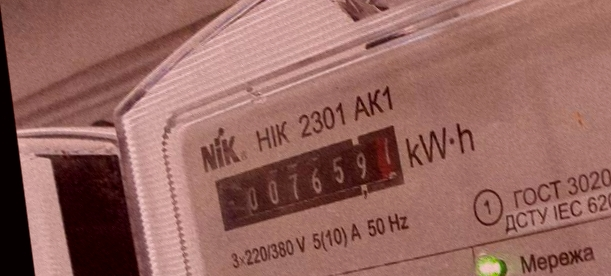0: (244, 180, 260, 210), (264, 176, 281, 204)
1: (378, 134, 394, 166)
5: (328, 152, 347, 186)
6: (307, 162, 324, 195)
7: (284, 167, 302, 201)
9: (351, 146, 370, 182)
screen: (195, 115, 427, 237)
